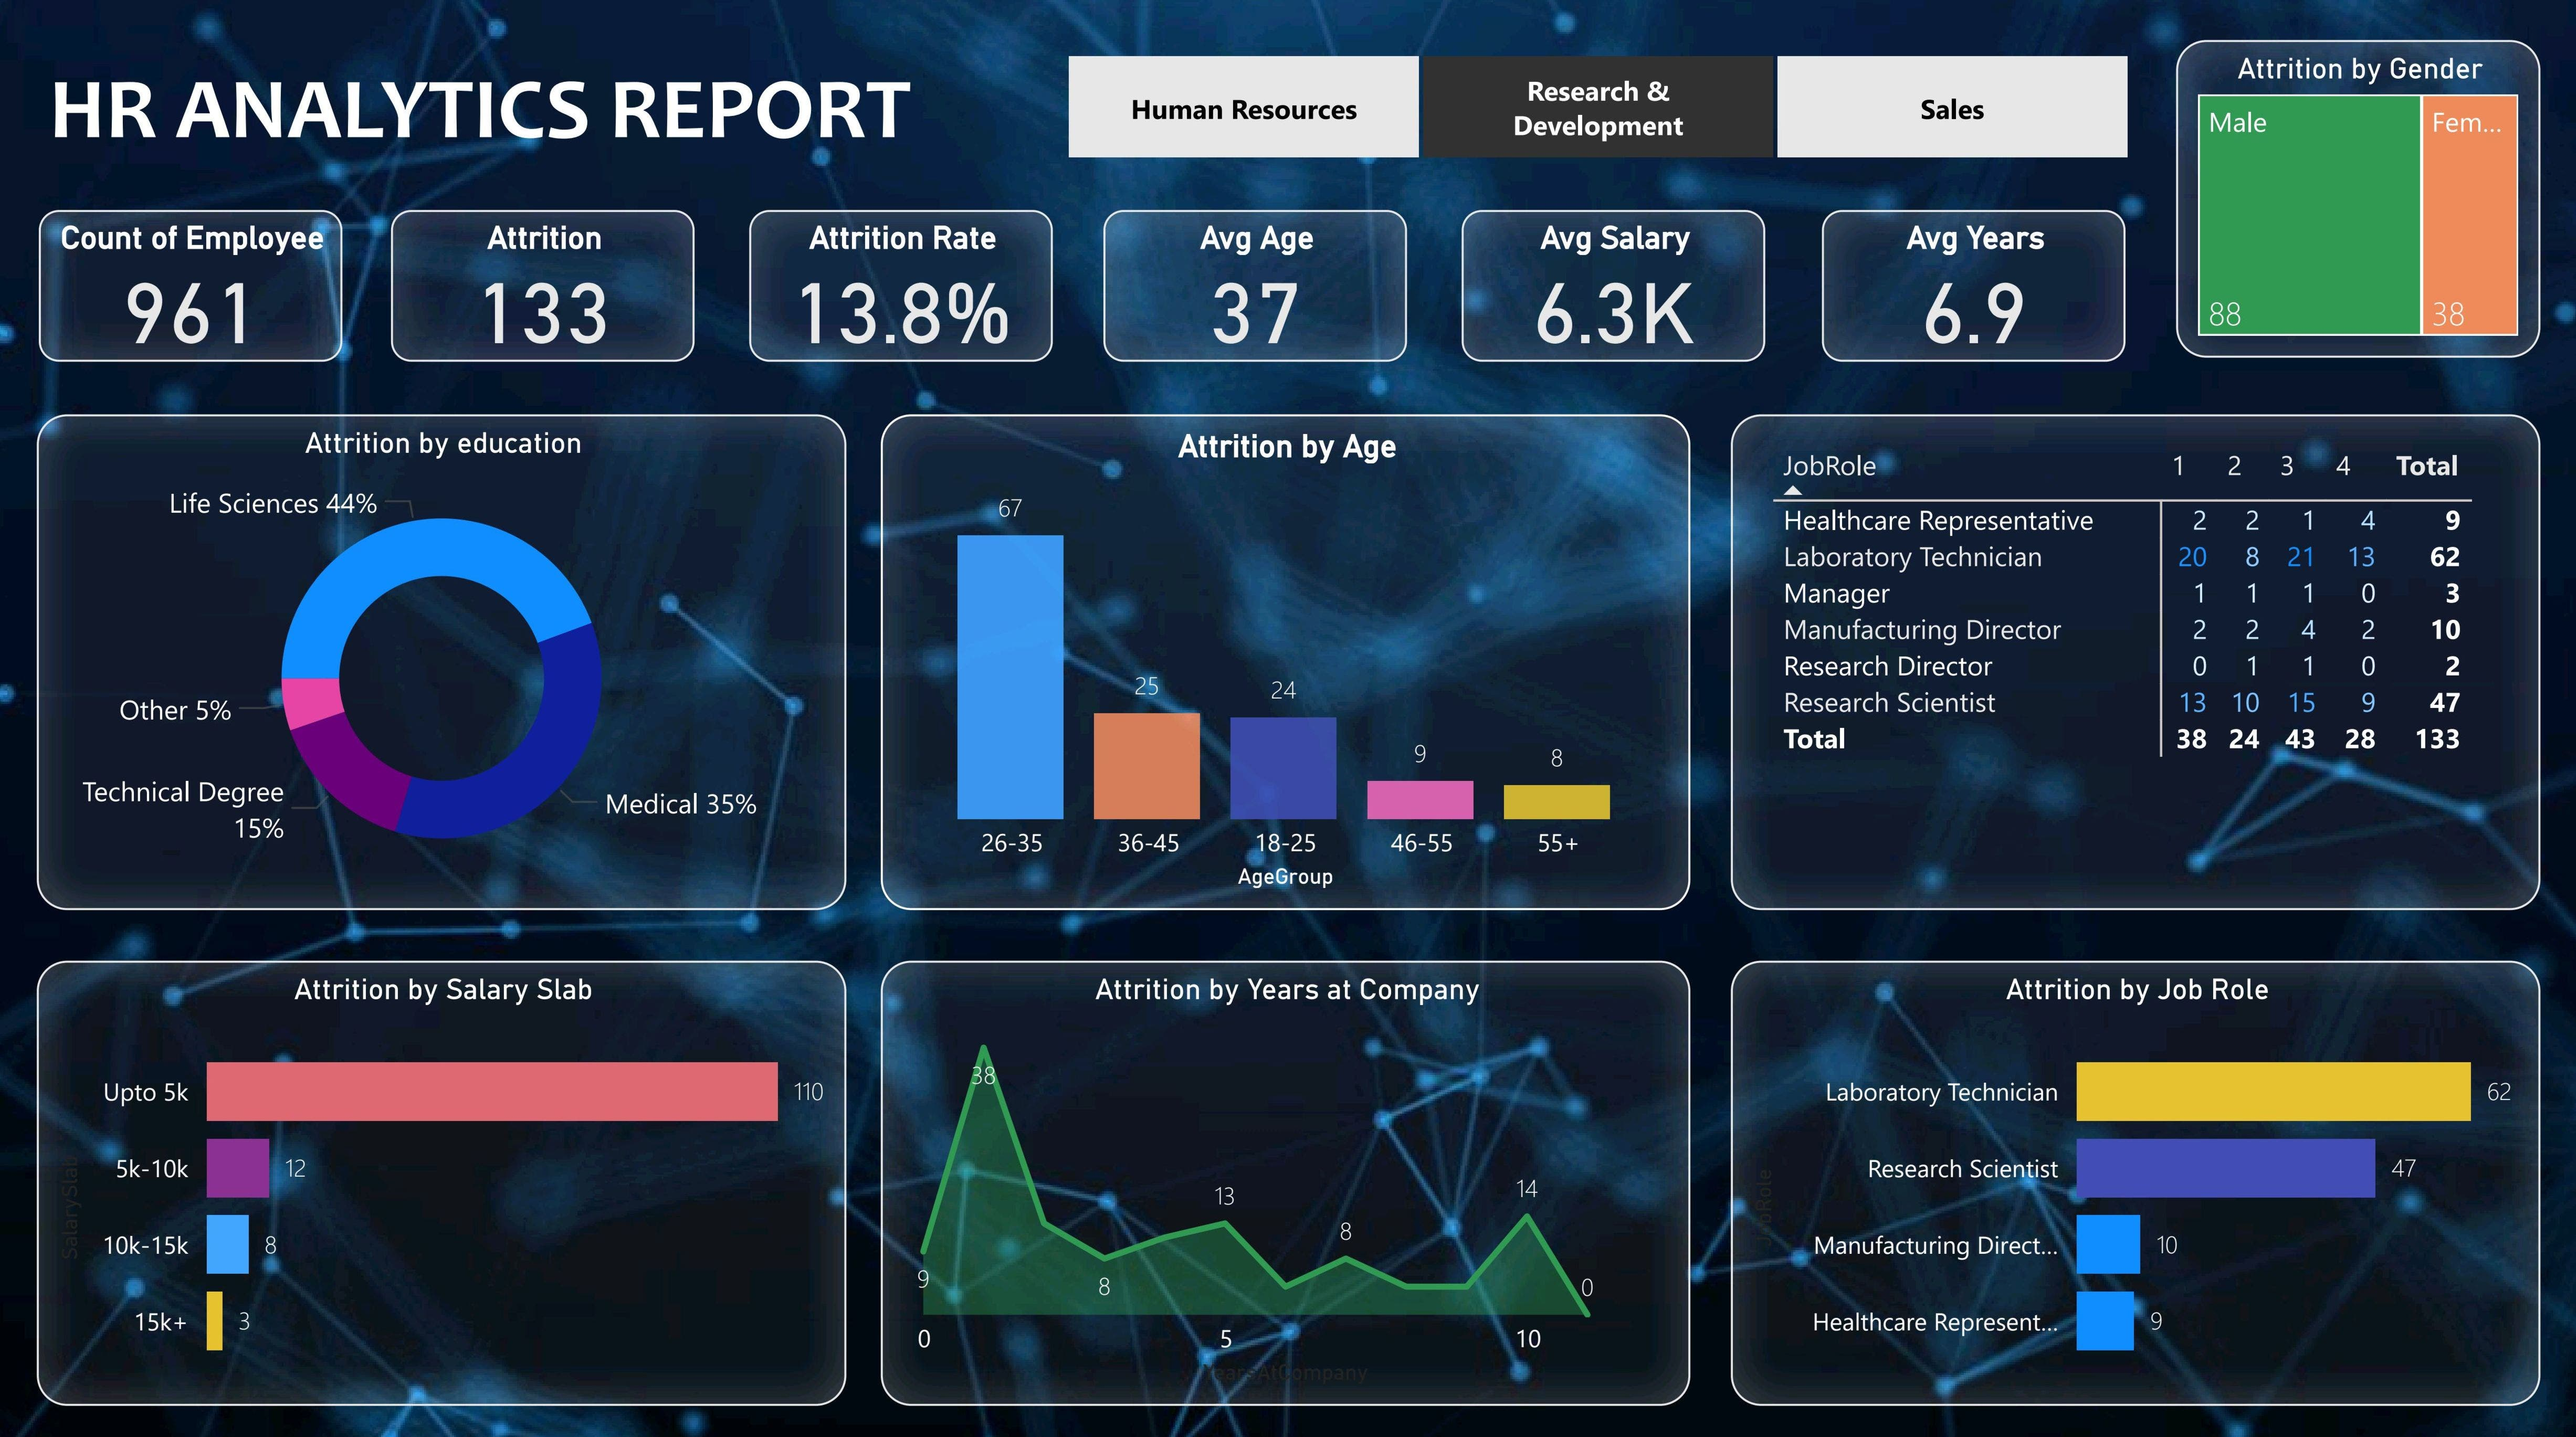

What the dashboard file says about the page in this screenshot:
{"tool":"powerbi","page":{"name":"Page 1","canvas":[1280,720],"ordinal":0},"visuals":[{"type":"card","title":"Count of Employee","fields":{"Values":["CountNonNull(HR_Analytics.EmpID)"]},"box":[23.9,106,150,74.8],"z":0},{"type":"card","title":"Attrition","fields":{"Values":["Sum(HR_Analytics.AttritionCount)"]},"box":[198,106,150,74.8],"z":1000},{"type":"card","title":"Attrition Rate","fields":{"Values":["HR_Analytics.Attrition rate"]},"box":[375,106,150,74.8],"z":2000},{"type":"card","title":"Avg Age","fields":{"Values":["Avg(HR_Analytics.Age)"]},"box":[550,106,150,74.8],"z":3000},{"type":"card","title":"Avg Salary","fields":{"Values":["Avg(HR_Analytics.MonthlyIncome)"]},"box":[727,106,150,74.8],"z":4000},{"type":"card","title":"Avg Years","fields":{"Values":["Avg(HR_Analytics.YearsAtCompany)"]},"box":[905,106,150,74.8],"z":5000},{"type":"donutChart","title":"Attrition by education","fields":{"Category":["HR_Analytics.EducationField"],"Y":["Sum(HR_Analytics.AttritionCount)"]},"box":[23.3,207,400,245],"z":6000},{"type":"columnChart","title":"Attrition by Age","fields":{"Category":["HR_Analytics.AgeGroup"],"Y":["Sum(HR_Analytics.AttritionCount)"]},"box":[440,207,400,245],"z":7000},{"type":"pivotTable","fields":{"Rows":["HR_Analytics.JobRole"],"Columns":["HR_Analytics.JobSatisfaction"],"Values":["Sum(HR_Analytics.AttritionCount)"]},"box":[860,206.7,400,245],"z":8000},{"type":"barChart","title":"Attrition by Salary Slab","fields":{"Category":["HR_Analytics.SalarySlab"],"Y":["Sum(HR_Analytics.AttritionCount)"]},"box":[23.3,476.7,400,220],"z":9000},{"type":"barChart","title":"Attrition by Job Role","fields":{"Category":["HR_Analytics.JobRole","HR_Analytics.SalarySlab"],"Y":["Sum(HR_Analytics.AttritionCount)"]},"box":[860,476.7,400,220],"z":10000},{"type":"areaChart","title":"Attrition by Years at Company","fields":{"Category":["HR_Analytics.YearsAtCompany"],"Y":["Sum(HR_Analytics.AttritionCount)"]},"box":[440,476.7,400,220],"z":11000},{"type":"treemap","title":"Attrition by Gender","fields":{"Group":["HR_Analytics.Gender"],"Values":["Sum(HR_Analytics.AttritionCount)"]},"box":[1080,22,179.7,157.5],"z":12000},{"type":"slicer","fields":{"Values":["HR_Analytics.Department"]},"box":[506.7,23.3,573.3,63.3],"z":13000},{"type":"textbox","box":[23.9,23.9,459.7,63.6],"z":14000}]}

Visuals, with their boxes in screenshot pixels (x1, y1, x2, y2), scaled from the page's 1280x720 canvas onto the 2576x1437 screenshot:
"Count of Employee" card: pyautogui.locateOnScreen(48, 212, 350, 361)
"Attrition" card: pyautogui.locateOnScreen(398, 212, 700, 361)
"Attrition Rate" card: pyautogui.locateOnScreen(755, 212, 1057, 361)
"Avg Age" card: pyautogui.locateOnScreen(1107, 212, 1409, 361)
"Avg Salary" card: pyautogui.locateOnScreen(1463, 212, 1765, 361)
"Avg Years" card: pyautogui.locateOnScreen(1821, 212, 2123, 361)
"Attrition by education" donutChart: pyautogui.locateOnScreen(47, 413, 852, 902)
"Attrition by Age" columnChart: pyautogui.locateOnScreen(886, 413, 1690, 902)
pivotTable - HR_Analytics.JobRole x HR_Analytics.JobSatisfaction: pyautogui.locateOnScreen(1731, 413, 2536, 902)
"Attrition by Salary Slab" barChart: pyautogui.locateOnScreen(47, 952, 852, 1390)
"Attrition by Job Role" barChart: pyautogui.locateOnScreen(1731, 952, 2536, 1390)
"Attrition by Years at Company" areaChart: pyautogui.locateOnScreen(886, 952, 1690, 1390)
"Attrition by Gender" treemap: pyautogui.locateOnScreen(2173, 44, 2535, 358)
slicer - HR_Analytics.Department: pyautogui.locateOnScreen(1019, 47, 2173, 173)
textbox: pyautogui.locateOnScreen(48, 48, 973, 175)
